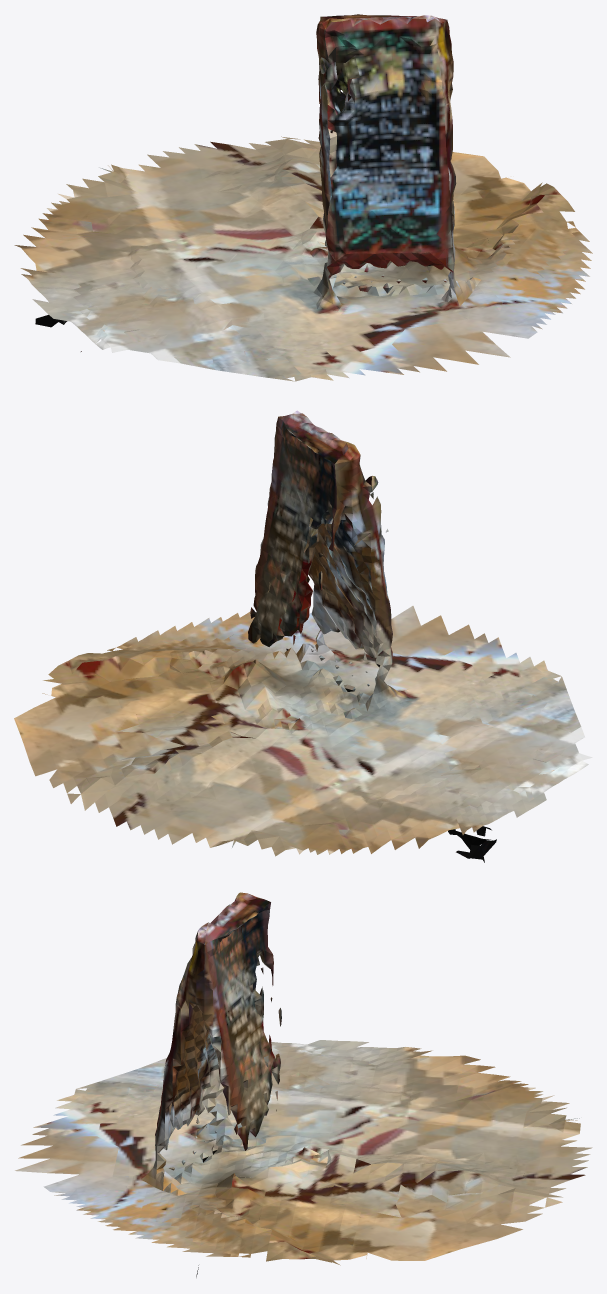
File: kanban.glb
The picture shows the model from 3 angles, top to bottom: view 1: azimuth 30°, elevation 25°; view 2: azimuth 150°, elevation 25°; view 3: azimuth 270°, elevation 25°; orthographic projection. The views are drawn at different scales.
Visible parts, largest first — view 1: model; view 2: model; view 3: model.
Boxes of the visible parts, x1,y1,x2,y2 form: model: (14, 14, 592, 381); model: (14, 410, 592, 862); model: (15, 892, 592, 1277).
Size of the model in its own units: 2 by 1.21 by 2.11.
Materials: 1 (1 with a texture image).
